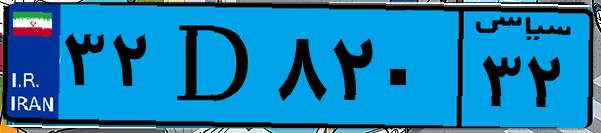0: (385, 28, 445, 110)
2: (330, 28, 385, 110), (525, 38, 570, 115), (110, 28, 158, 98)
3: (57, 26, 110, 100), (475, 38, 525, 113)
8: (270, 28, 330, 110)
D: (158, 12, 270, 120)
